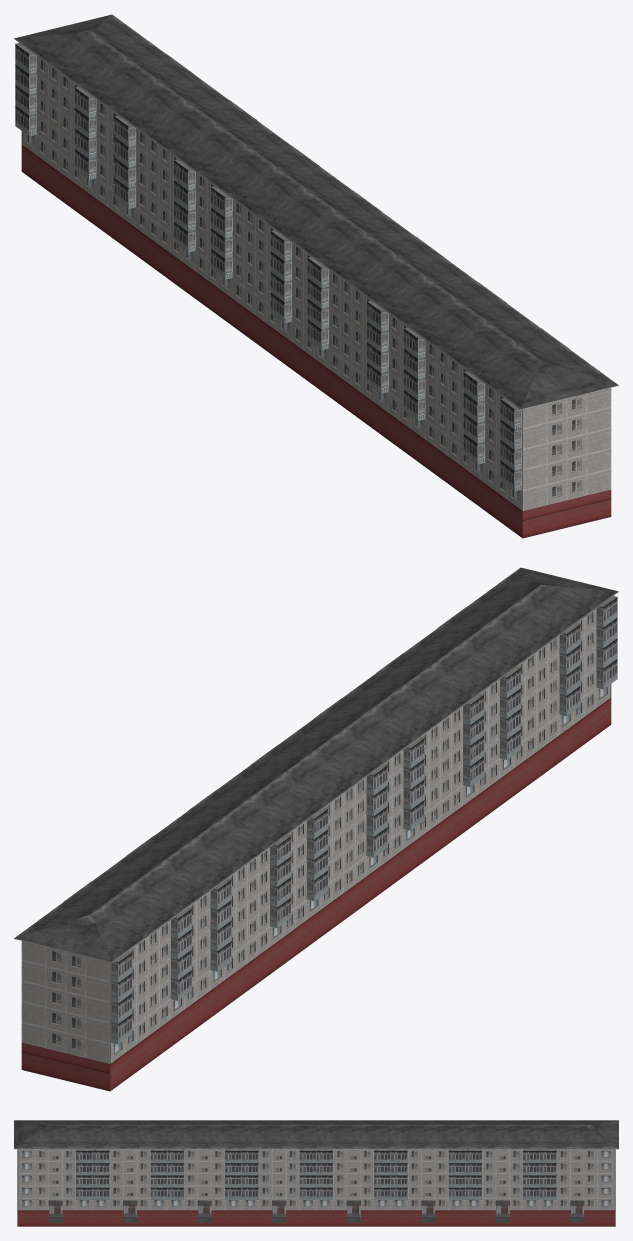
Rendered from Etajka.glb.
3 views of the same model, one above another, from view 1: azimuth 30°, elevation 25°; view 2: azimuth 150°, elevation 25°; view 3: azimuth 270°, elevation 25° (orthographic). The views are drawn at different scales.
Visible parts, largest first — view 1: Long5Hrush; view 2: Long5Hrush; view 3: Long5Hrush.
Part boxes in pixels (box(x1,y1,x2,y2)): Long5Hrush: box(14, 14, 618, 538); Long5Hrush: box(14, 567, 618, 1091); Long5Hrush: box(14, 1120, 618, 1226).
Bounding box in the file's own units: 21.92 × 26.15 × 162.
6 materials, 6 textured.
